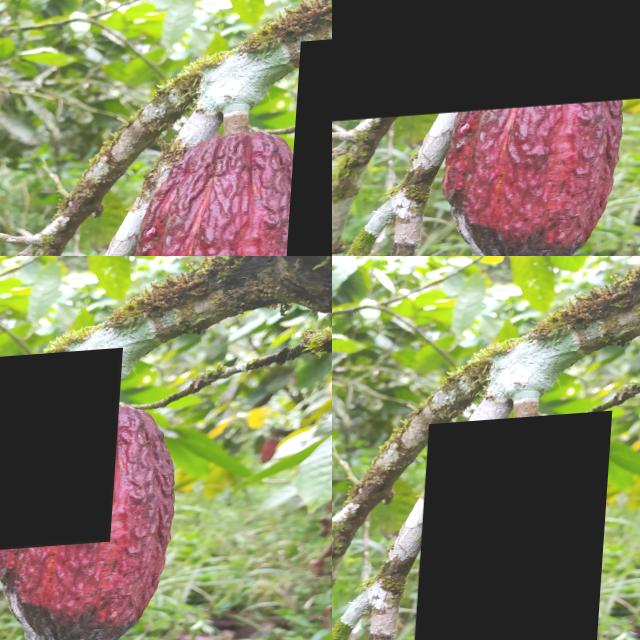Fitoftora: (415, 417, 614, 640), (0, 353, 124, 554)
Monilia: (332, 0, 640, 123)
